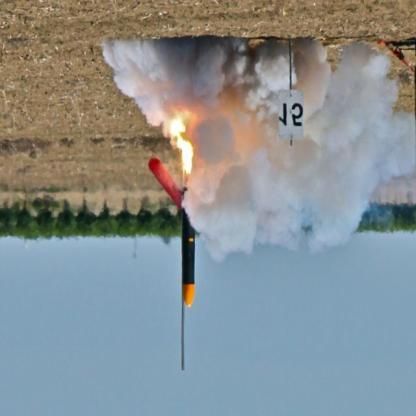MIL_TBM: (177, 206, 196, 312)
